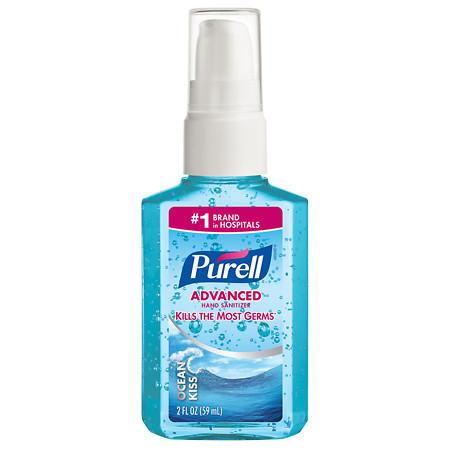Sanitizer: (136, 4, 318, 443)
